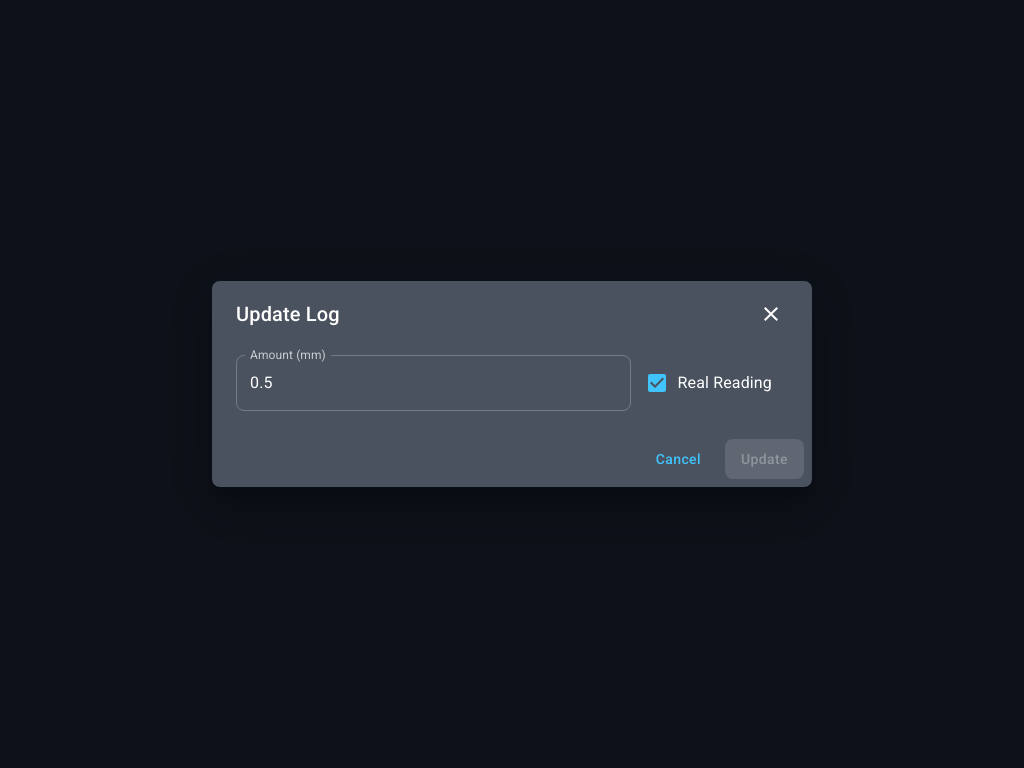
Test: UpdateLogModal › Update Button State › update button is enabled after changing measurement
This screenshot has width=1024, height=768.
Clear the number field labelled "Amount (mm)": (433, 383) [236,355,630,411]
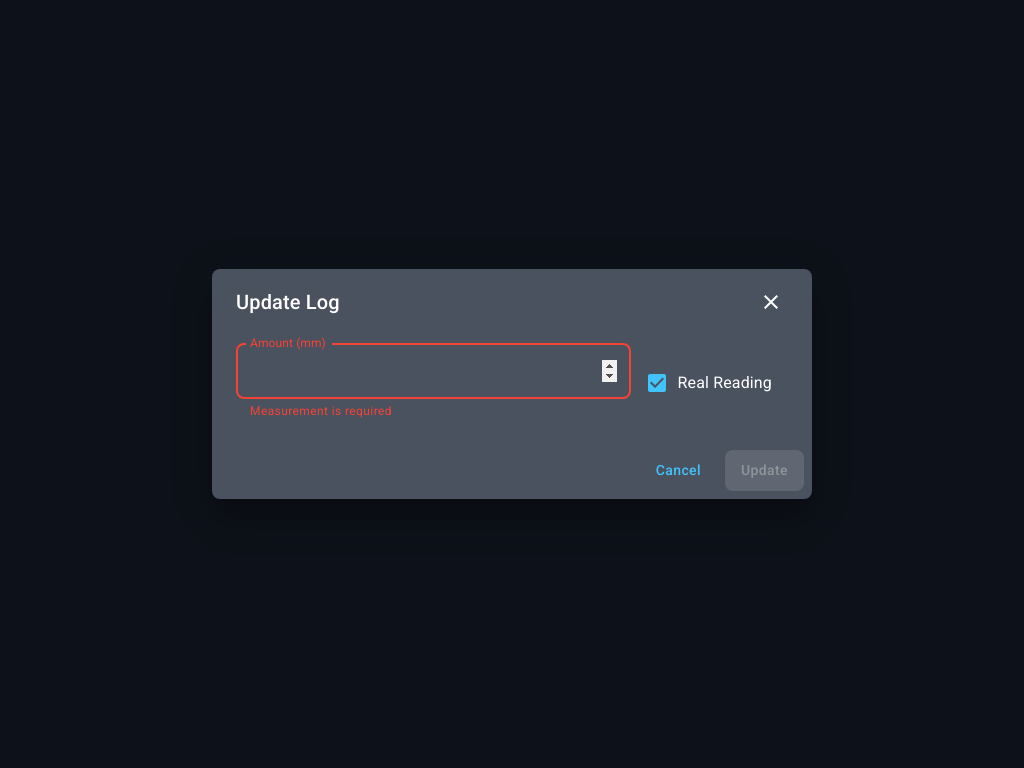
In the number field labelled "Amount (mm)": (433, 371) [236,343,630,399], type "10"
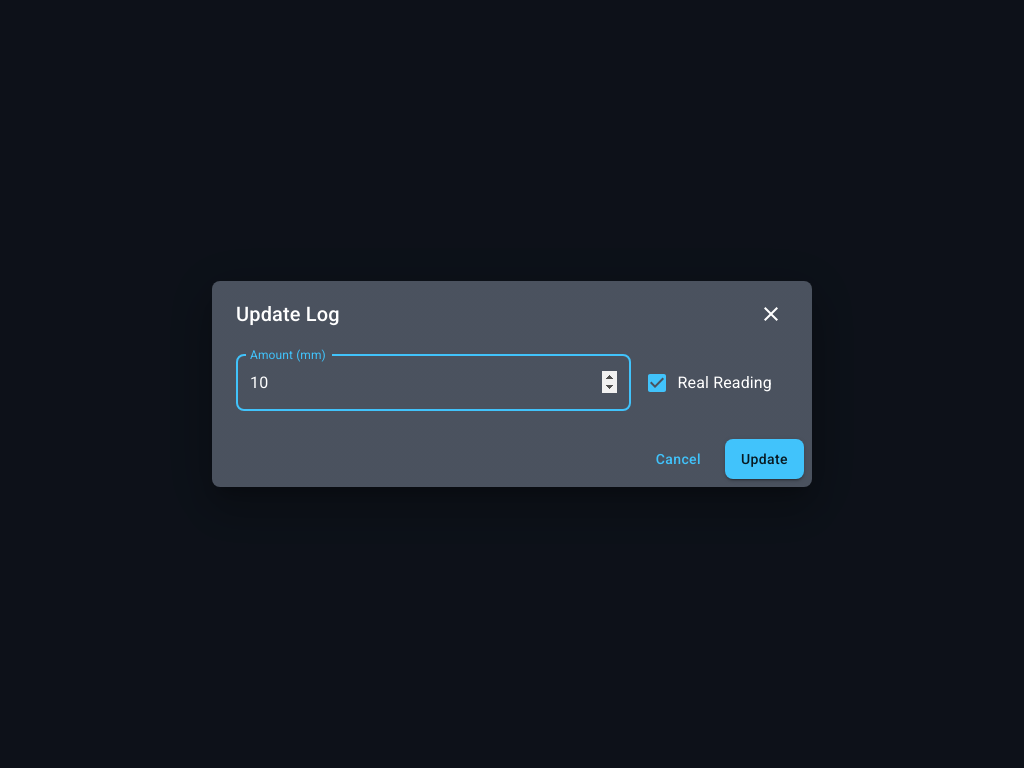
Now the button "Update" is enabled, box [725,439,804,479]
